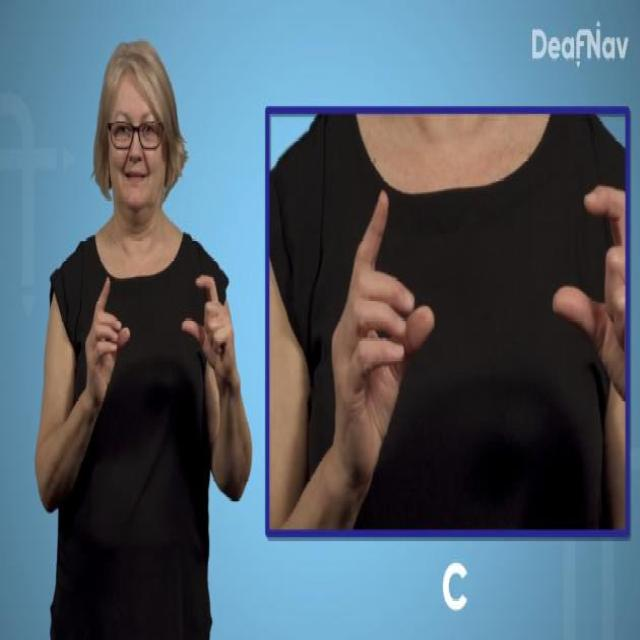C: (330, 180, 626, 429), (84, 272, 236, 389)
